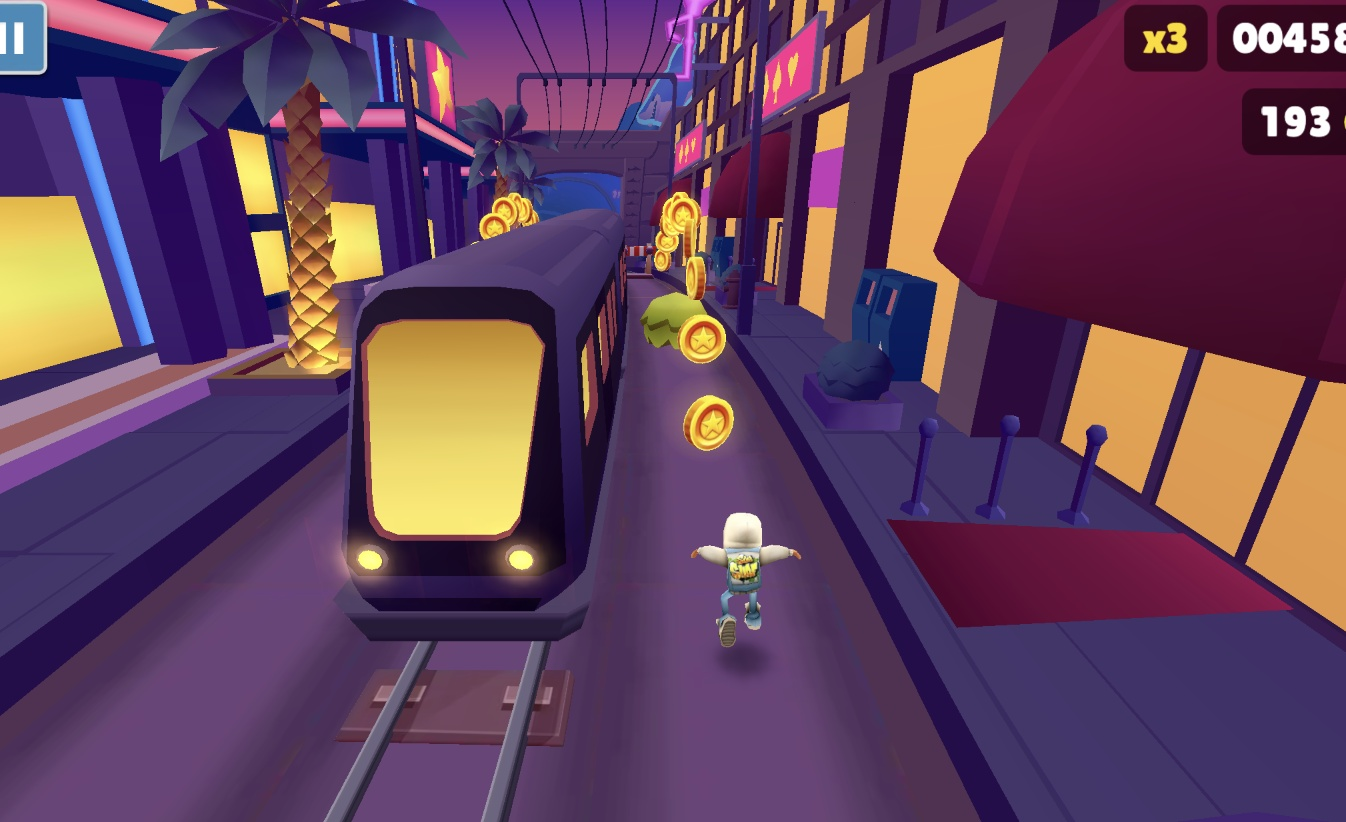bush: (638, 294, 707, 349)
ground_barrier: (625, 246, 651, 278)
train: (332, 210, 626, 641)
